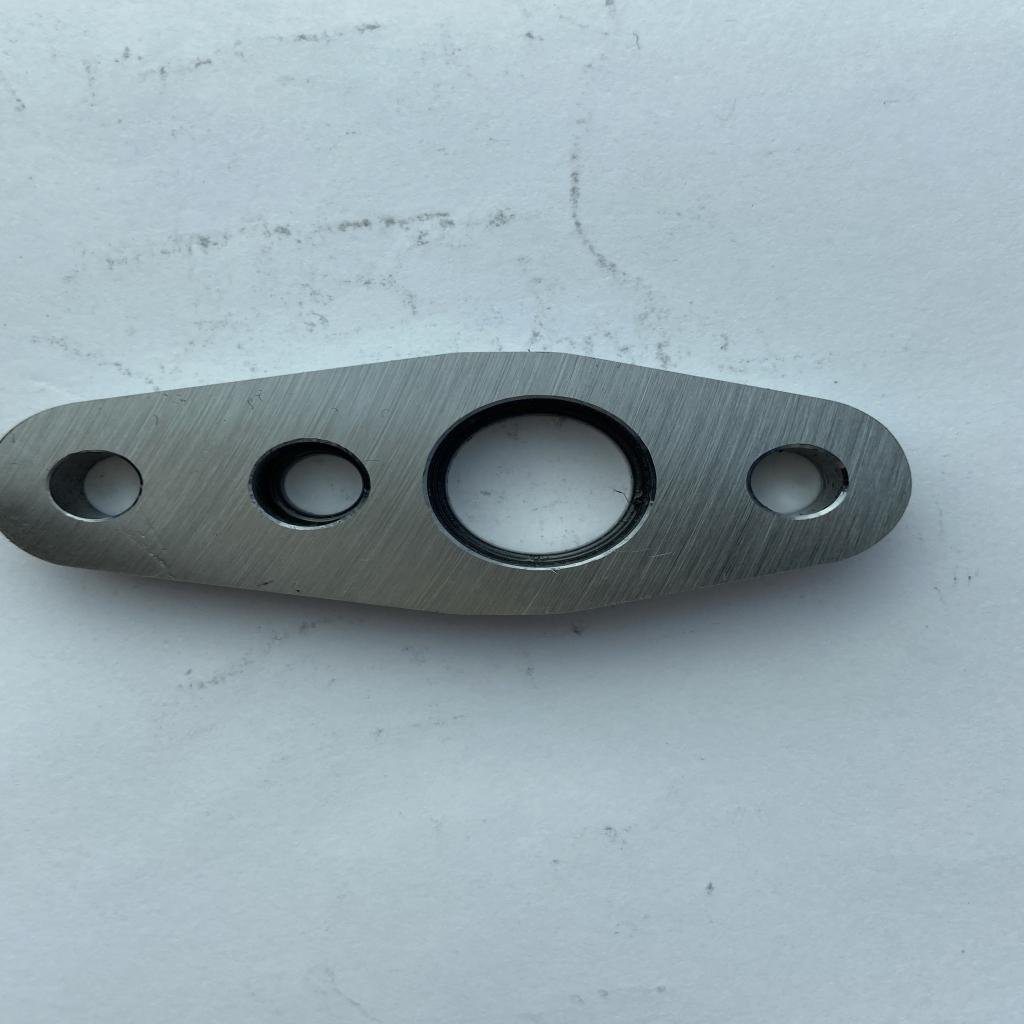chap: (120, 526, 171, 568), (634, 544, 674, 562), (548, 569, 562, 576)
lines: (244, 391, 268, 413), (157, 392, 192, 406), (253, 578, 279, 590)
